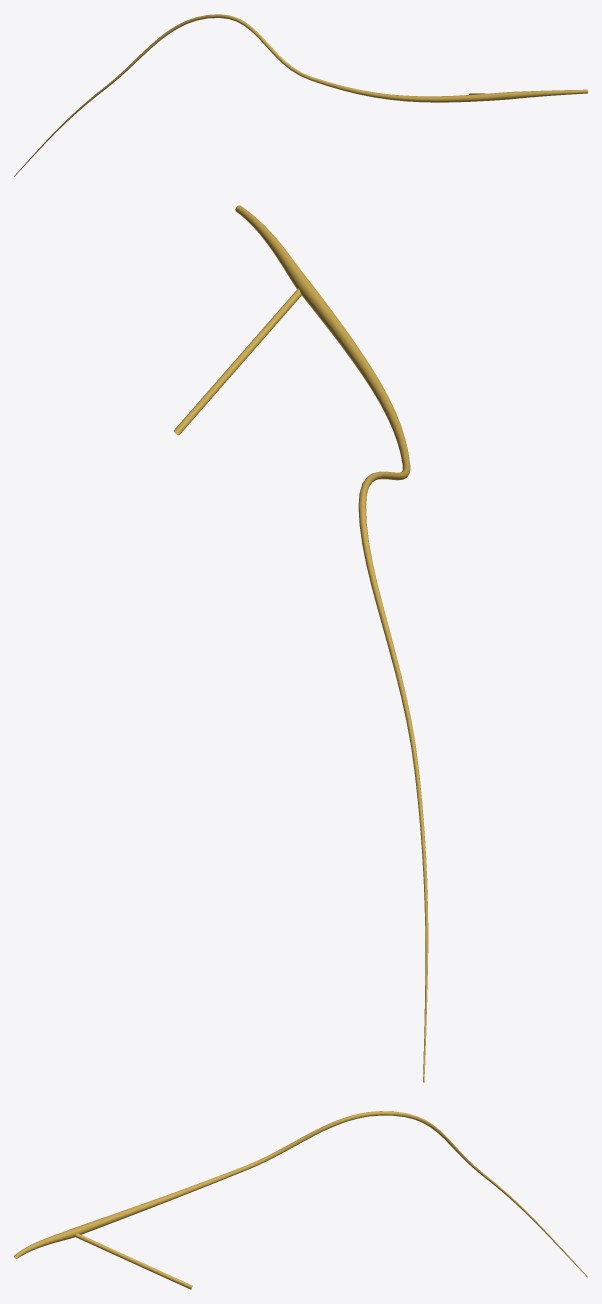
3 views of the same model, one above another, from view 1: azimuth 30°, elevation 25°; view 2: azimuth 150°, elevation 25°; view 3: azimuth 270°, elevation 25° (orthographic). The views are drawn at different scales.
Parts seen in each view (by area): view 1: 右侧髂腹下神经; view 2: 右侧髂腹下神经; view 3: 右侧髂腹下神经.
Part boxes in pixels (left/top/right/bottom): 右侧髂腹下神经: left=14, top=14, right=587, bottom=176; 右侧髂腹下神经: left=174, top=205, right=428, bottom=1082; 右侧髂腹下神经: left=14, top=1111, right=587, bottom=1289.
Bounding box in the file's own units: 0.1497 × 0.0851 × 0.1874.
